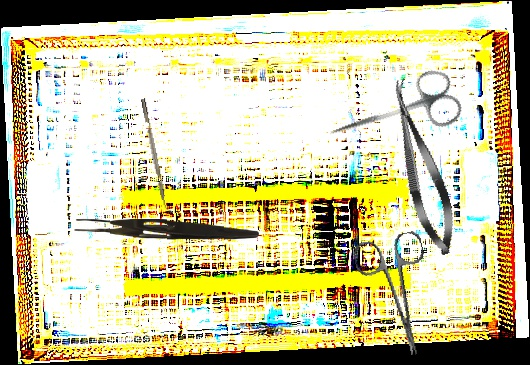Chopper: (140, 97, 174, 215)
Dressing Forceps: (74, 217, 260, 242)
Iris Scissors: (321, 63, 466, 164), (351, 229, 446, 364)
Micro Scissor: (379, 75, 464, 259)
